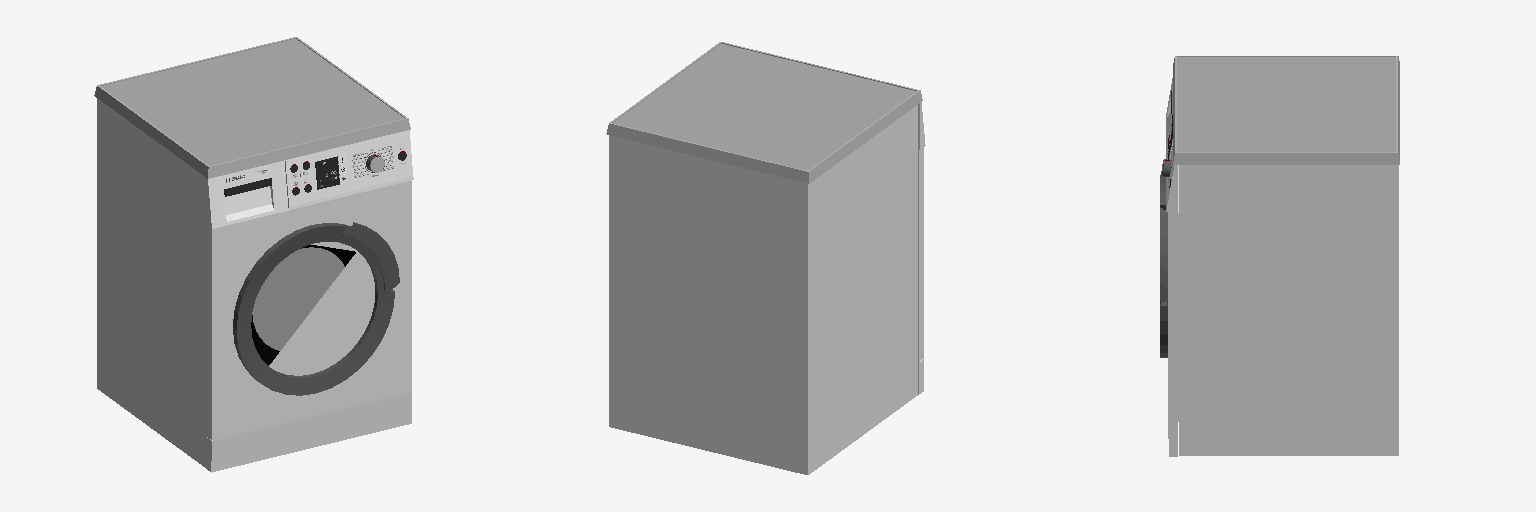
3 renders of one model, left to right at view 1: azimuth 30°, elevation 25°; view 2: azimuth 150°, elevation 25°; view 3: azimuth 270°, elevation 25°, orthographic.
Parts seen in each view (by area): view 1: front_Cube, base_Cube.001, top_Cube.002, door_Cube.004, control_Cube.006, control-box_Cube.003, display_Cube.005; view 2: base_Cube.001, top_Cube.002, front_Cube; view 3: base_Cube.001, top_Cube.002, front_Cube, door_Cube.004.
Boxes of the visible parts, x1=… form: front_Cube: x1=207, y1=181, x2=411, y2=472; base_Cube.001: x1=97, y1=98, x2=206, y2=468; top_Cube.002: x1=94, y1=37, x2=410, y2=178; door_Cube.004: x1=233, y1=222, x2=399, y2=395; control_Cube.006: x1=208, y1=130, x2=412, y2=228; control-box_Cube.003: x1=206, y1=160, x2=413, y2=228; display_Cube.005: x1=315, y1=156, x2=339, y2=189; base_Cube.001: x1=609, y1=105, x2=917, y2=474; top_Cube.002: x1=606, y1=42, x2=922, y2=183; front_Cube: x1=918, y1=148, x2=923, y2=394; base_Cube.001: x1=1179, y1=165, x2=1398, y2=455; top_Cube.002: x1=1173, y1=56, x2=1399, y2=164; front_Cube: x1=1168, y1=165, x2=1178, y2=456; door_Cube.004: x1=1160, y1=175, x2=1167, y2=357.
Bounding box in the file's own units: 0.59 × 0.842 × 0.6055.
Materials: 13 (1 with a texture image).